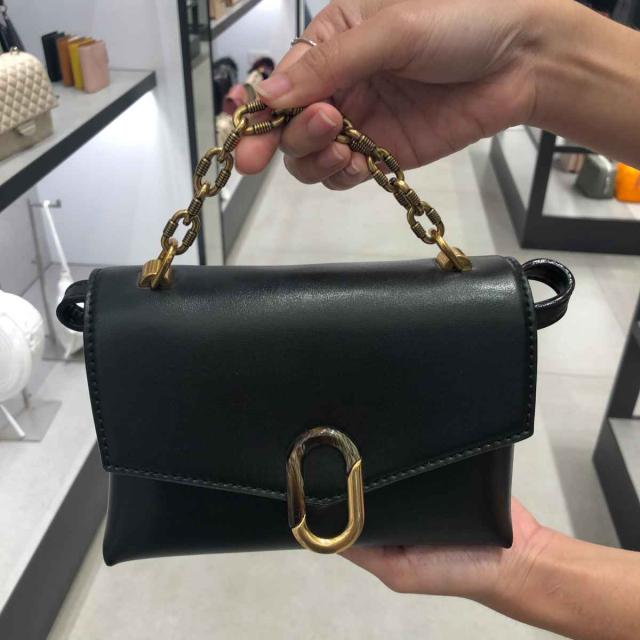Handbag: (79, 252, 543, 564)
